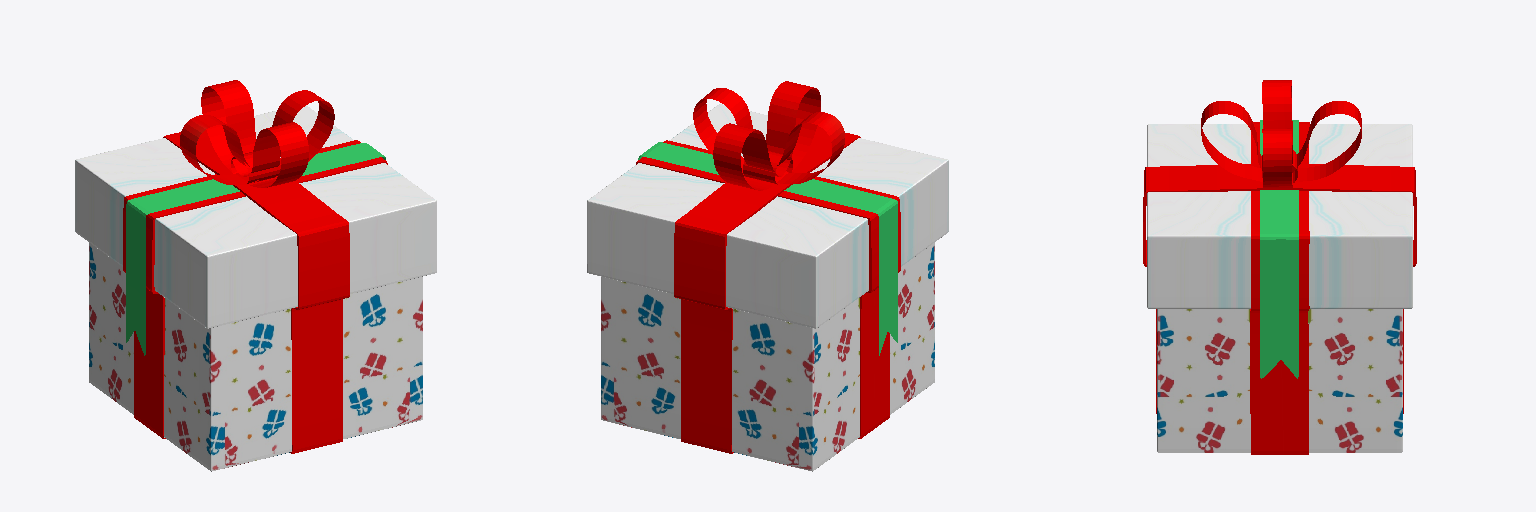
The picture shows the model from 3 angles: view 1: azimuth 30°, elevation 25°; view 2: azimuth 150°, elevation 25°; view 3: azimuth 270°, elevation 25°; orthographic projection.
Parts seen in each view (by area): view 1: box_Cube.004; view 2: box_Cube.004; view 3: box_Cube.004.
Boxes of the visible parts, box(x1,y1,x2,y2) form: box_Cube.004: box(75, 80, 436, 471); box_Cube.004: box(587, 81, 948, 471); box_Cube.004: box(1143, 80, 1416, 454).
Bounding box in the file's own units: 2.26 × 2.67 × 2.23.
Materials: 1 (1 with a texture image).